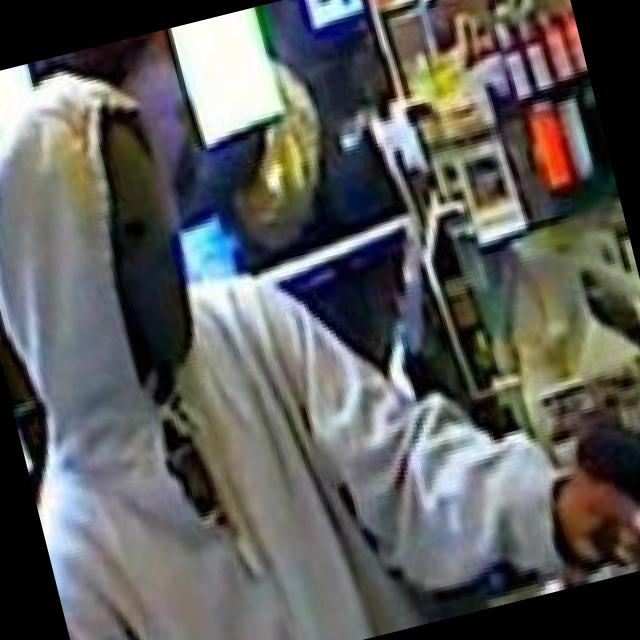Guns: (529, 367, 640, 586)
